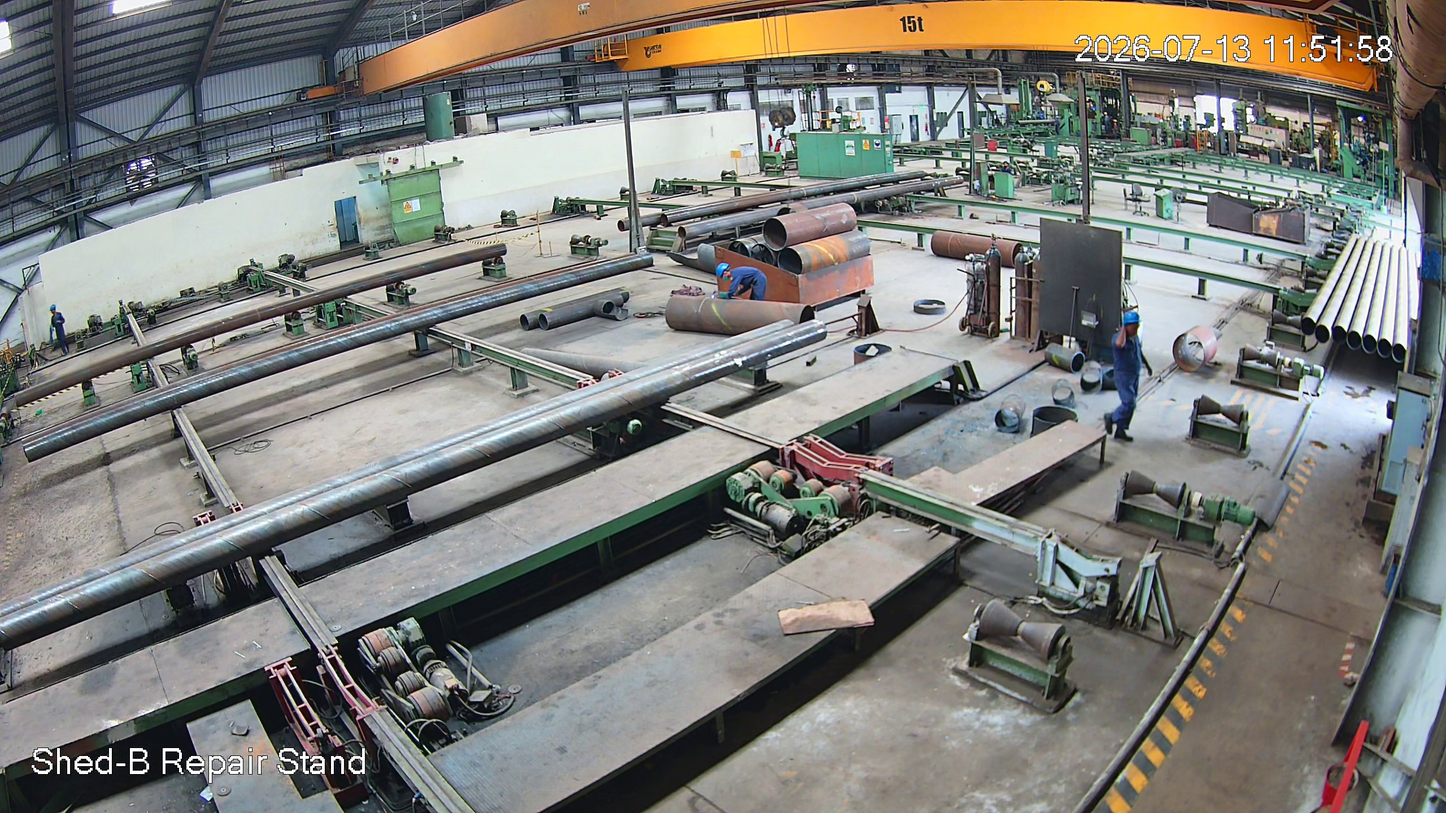Helmet: (1118, 312, 1140, 339), (713, 263, 733, 282)
Person: (1104, 316, 1145, 437), (716, 264, 762, 303)
